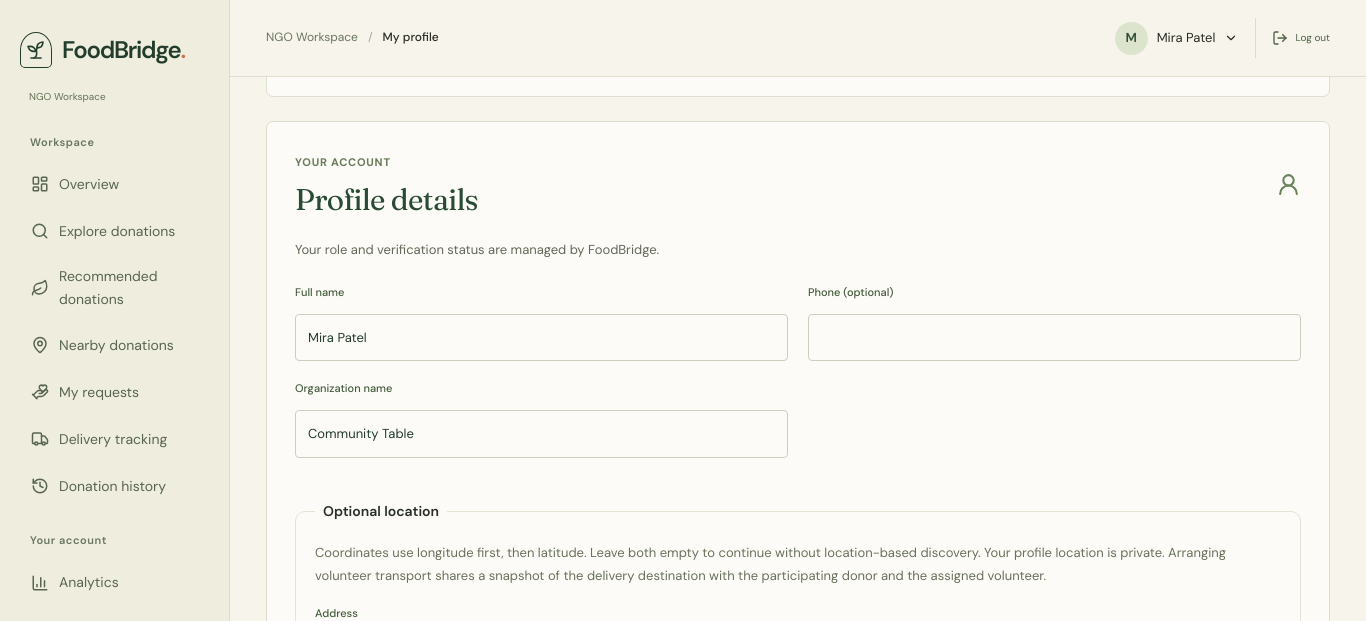
Test: Phase 4 NGO workspace › preserves permitted profile fields and readonly account facts
(page scrolled)
Replace the text in the field labelled "Organization name" with "Updated Table" at [542, 434], box [295,410,788,458]
(page scrolled)
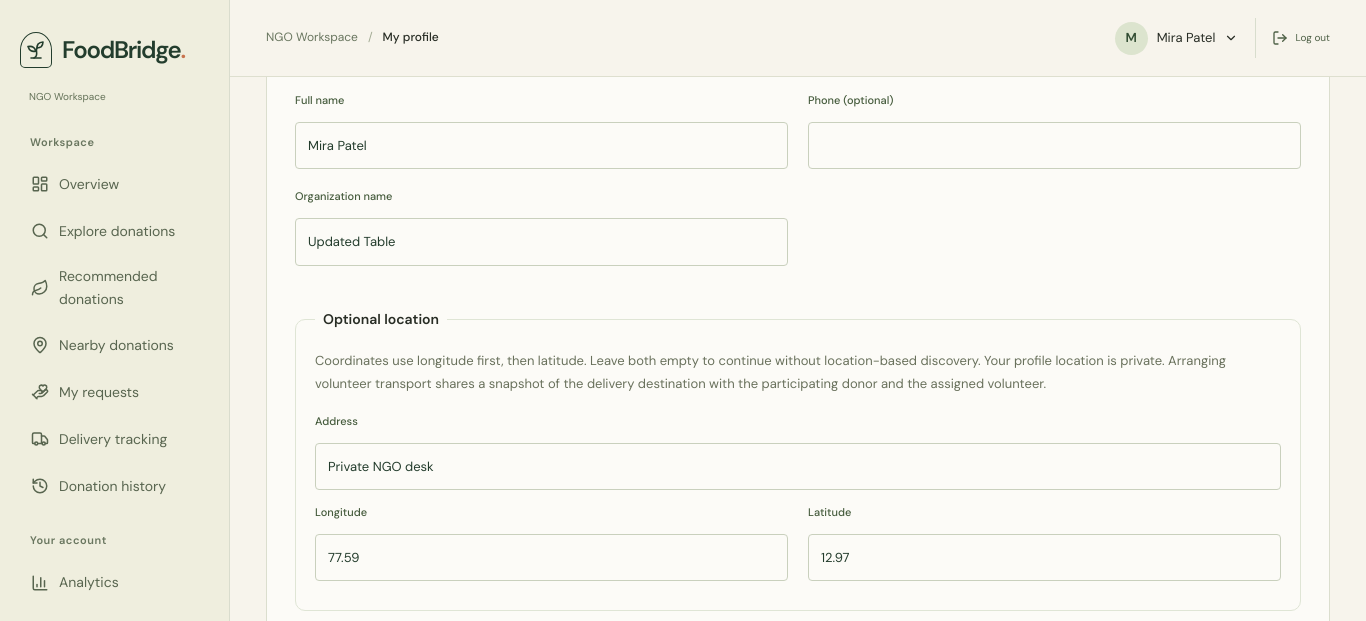
Submit the form named "Profile"
(page scrolled)
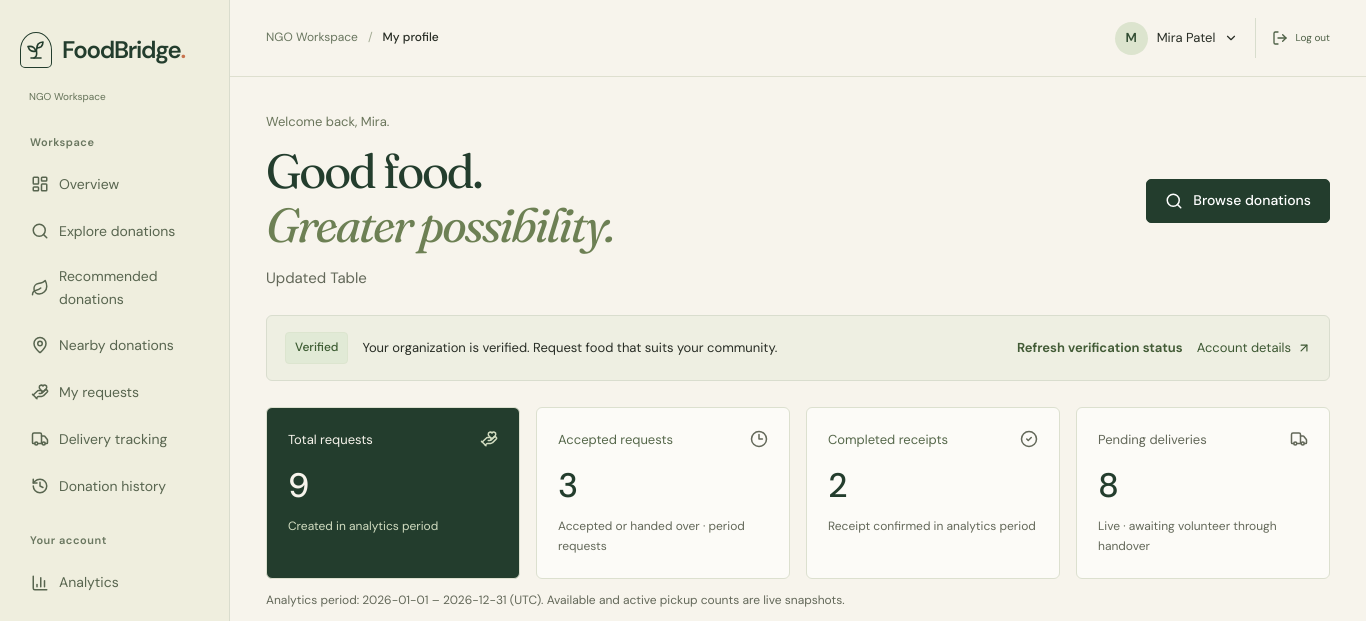
Result: the text "Updated Table" is shown at [266,268,367,288]
